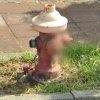a fire hydrant: (30, 2, 73, 72)
